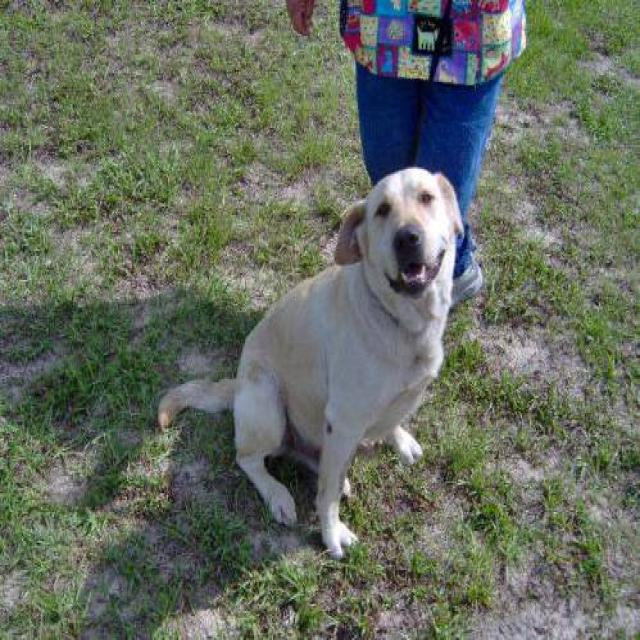dog: (156, 164, 464, 560)
